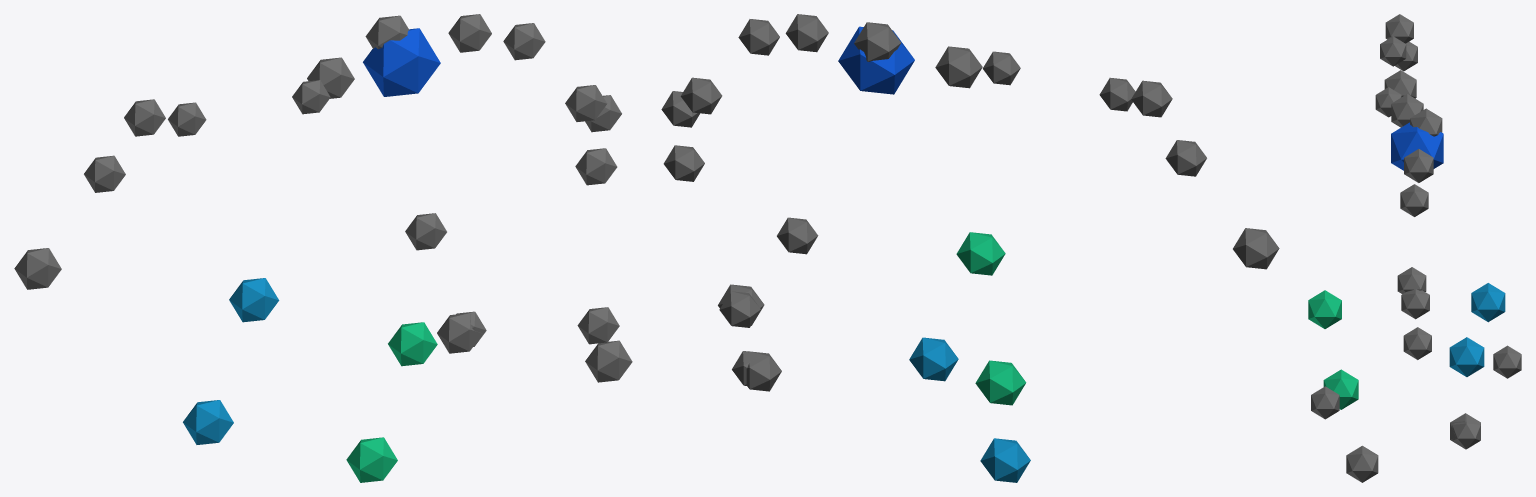
3 renders of one model, left to right at view 1: azimuth 30°, elevation 25°; view 2: azimuth 150°, elevation 25°; view 3: azimuth 270°, elevation 25°, orthographic. The views are drawn at different scales.
Visible parts, largest first — view 1: 09_06_07; view 2: 09_06_07; view 3: 09_06_07.
Part boxes in pixels (<box>): 09_06_07: <box>14,14,632,482</box>; 09_06_07: <box>661,14,1279,482</box>; 09_06_07: <box>1308,14,1521,482</box>.
Bounding box in the file's own units: 0.6522 × 0.417 × 0.252.
